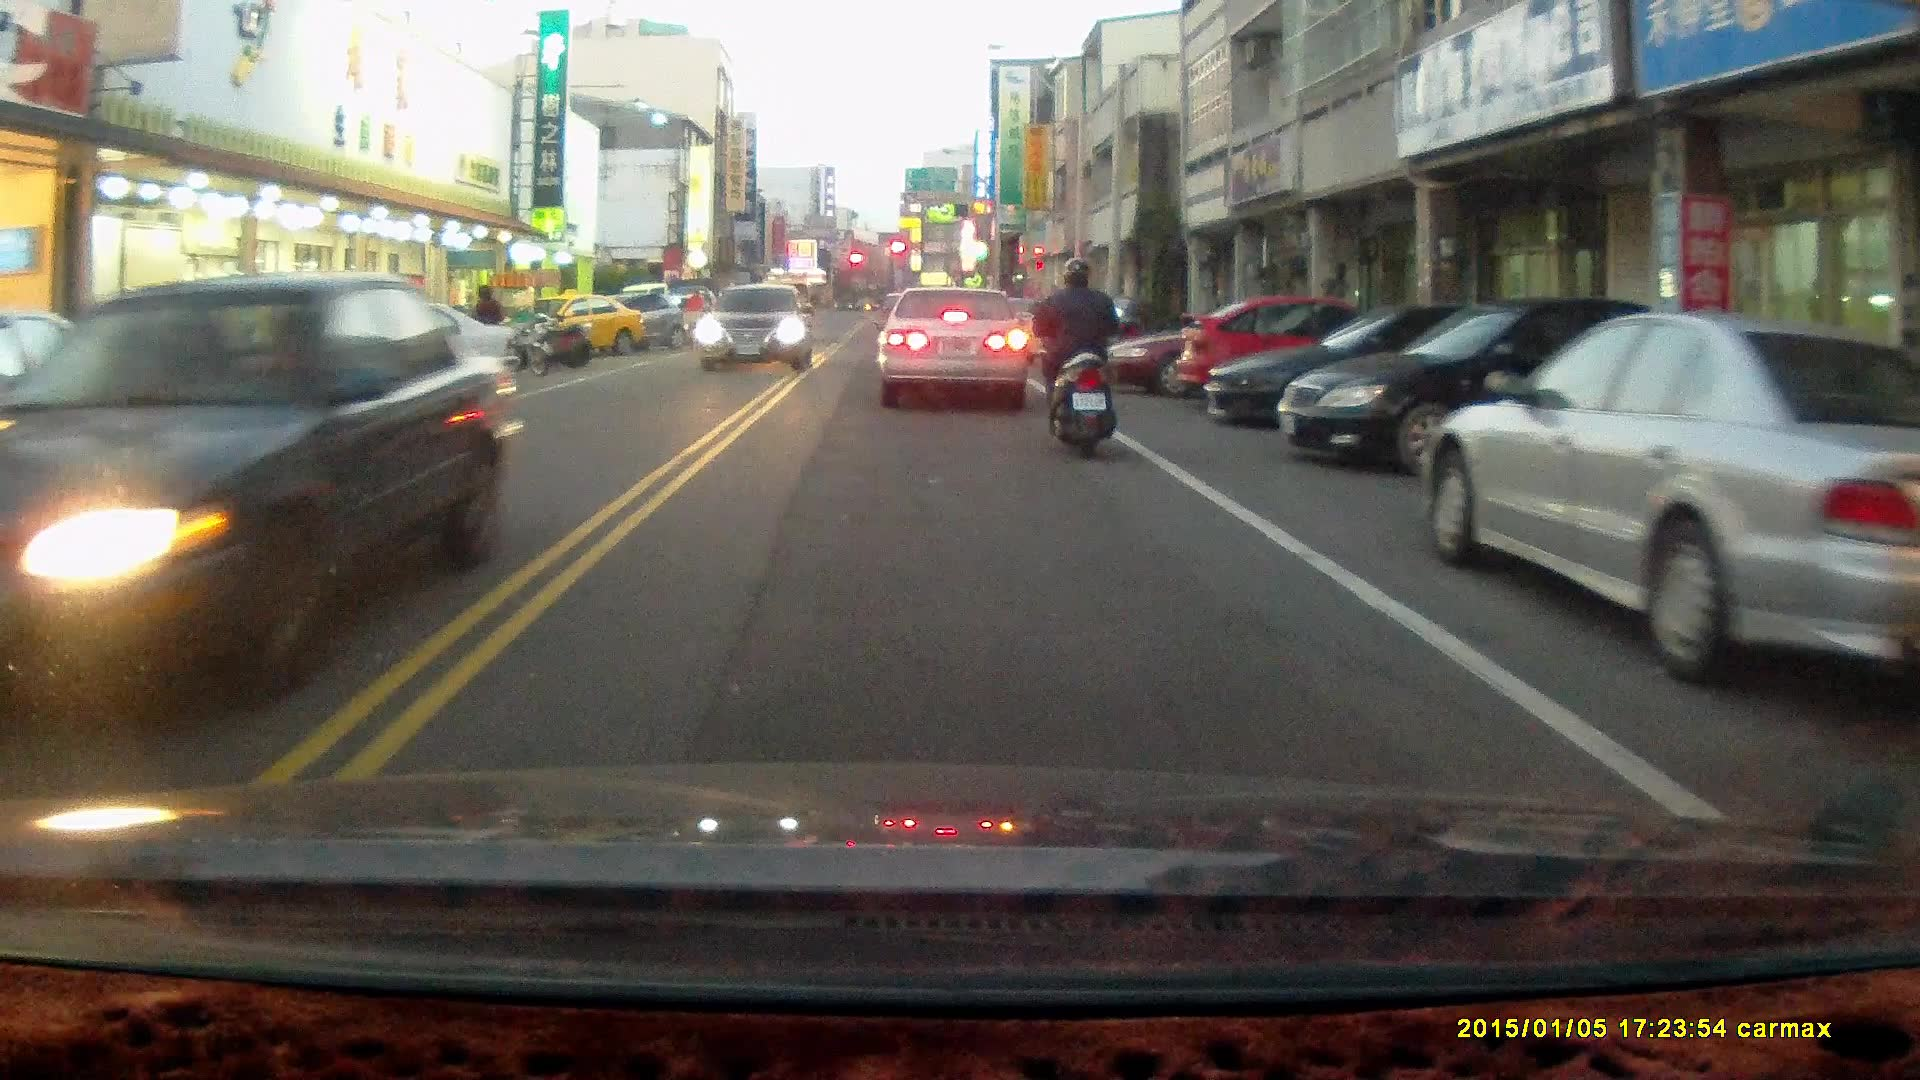pedestrian: (471, 284, 503, 359)
rider: (1030, 253, 1124, 460), (679, 289, 710, 359)
vehicle: (1, 275, 524, 711), (1421, 312, 1920, 685), (1276, 296, 1663, 477), (1201, 307, 1578, 439), (1171, 300, 1405, 417), (875, 286, 1029, 412), (700, 283, 815, 377), (523, 289, 647, 362)
